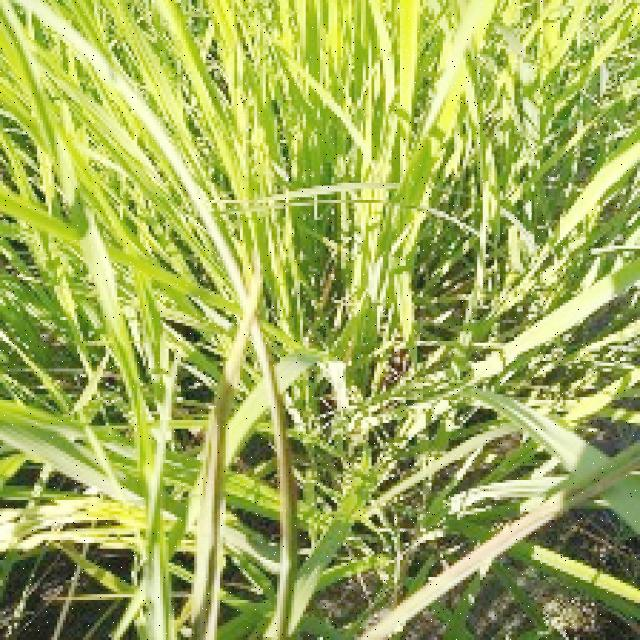health: (0, 0, 285, 290)
